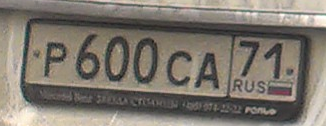character: (132, 33, 160, 84), (103, 34, 131, 84), (75, 33, 103, 81), (194, 50, 222, 93), (166, 50, 192, 87), (43, 42, 69, 78), (263, 39, 285, 81), (237, 39, 260, 79)
